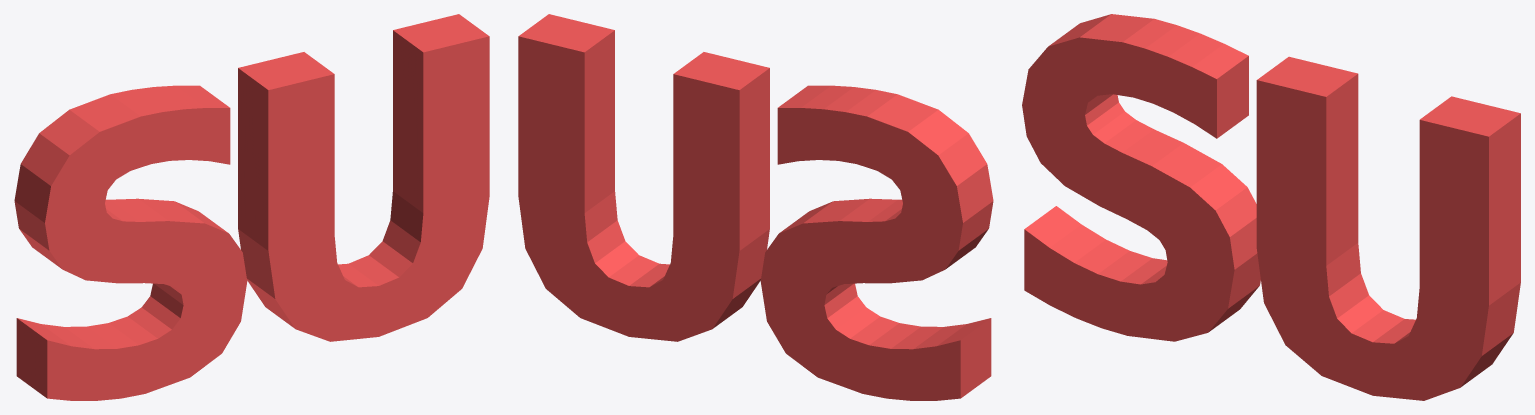
File: suku_besar_su.glb
3 renders of one model, left to right at view 1: azimuth 30°, elevation 25°; view 2: azimuth 150°, elevation 25°; view 3: azimuth 330°, elevation 25°, orthographic. The views are drawn at different scales.
Visible parts, largest first — view 1: geometry_0; view 2: geometry_0; view 3: geometry_0.
Boxes of the visible parts, bbox=[...] form: geometry_0: bbox=[14, 14, 489, 400]; geometry_0: bbox=[518, 14, 993, 400]; geometry_0: bbox=[1022, 14, 1520, 400].
Size of the model in its own units: 12.64 by 7.56 by 1.5.
